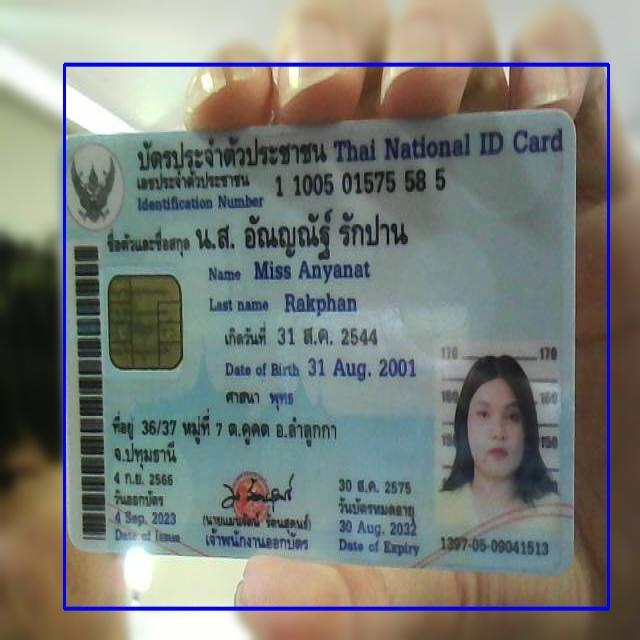Address_th: (109, 404, 348, 471)
Date_of_Birth: (302, 352, 421, 385)
Date_of_Expiry: (334, 516, 419, 540)
Date_of_Issue: (114, 505, 184, 528)
First_Name: (250, 256, 378, 288)
ID_Number: (271, 164, 453, 202)
Image: (433, 340, 561, 536)
Last_Name: (280, 290, 360, 320)
Thai_Name: (194, 208, 413, 263)
